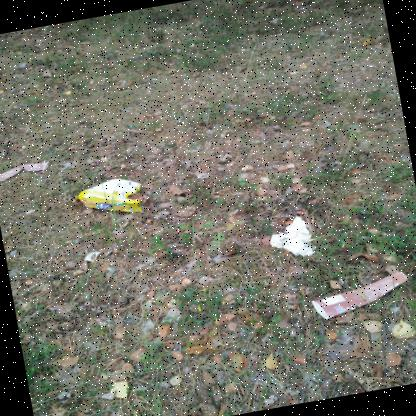Meal carton: (310, 271, 408, 319), (0, 162, 48, 181)
Normal paper: (270, 216, 315, 256)
Other plastic: (72, 179, 140, 212)
